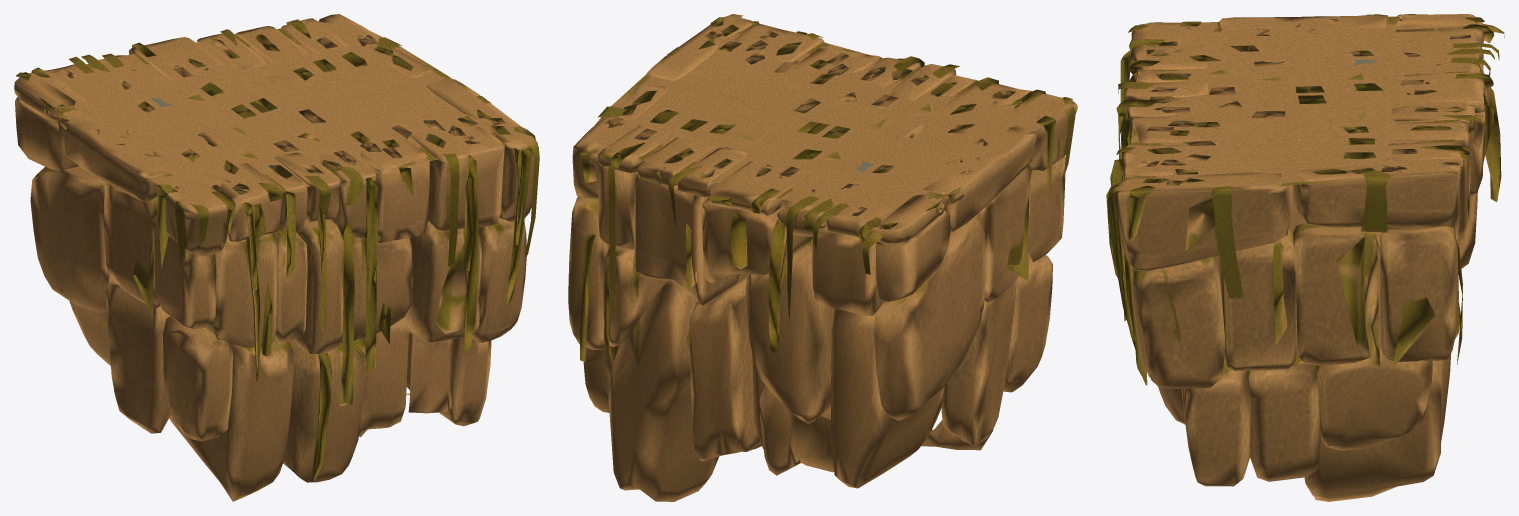
File: revealed-bridge.glb
3 renders of one model, left to right at view 1: azimuth 30°, elevation 25°; view 2: azimuth 150°, elevation 25°; view 3: azimuth 270°, elevation 25°, orthographic. The views are drawn at different scales.
Visible parts, largest first — view 1: revealed-bridge_LOD0; view 2: revealed-bridge_LOD0; view 3: revealed-bridge_LOD0.
Boxes of the visible parts, x1=… form: revealed-bridge_LOD0: x1=14, y1=14, x2=539, y2=501; revealed-bridge_LOD0: x1=568, y1=14, x2=1077, y2=501; revealed-bridge_LOD0: x1=1106, y1=14, x2=1504, y2=501.
Size of what is drawn, in the model's own units: 1 by 1 by 1.
Materials: 1 (1 with a texture image).
